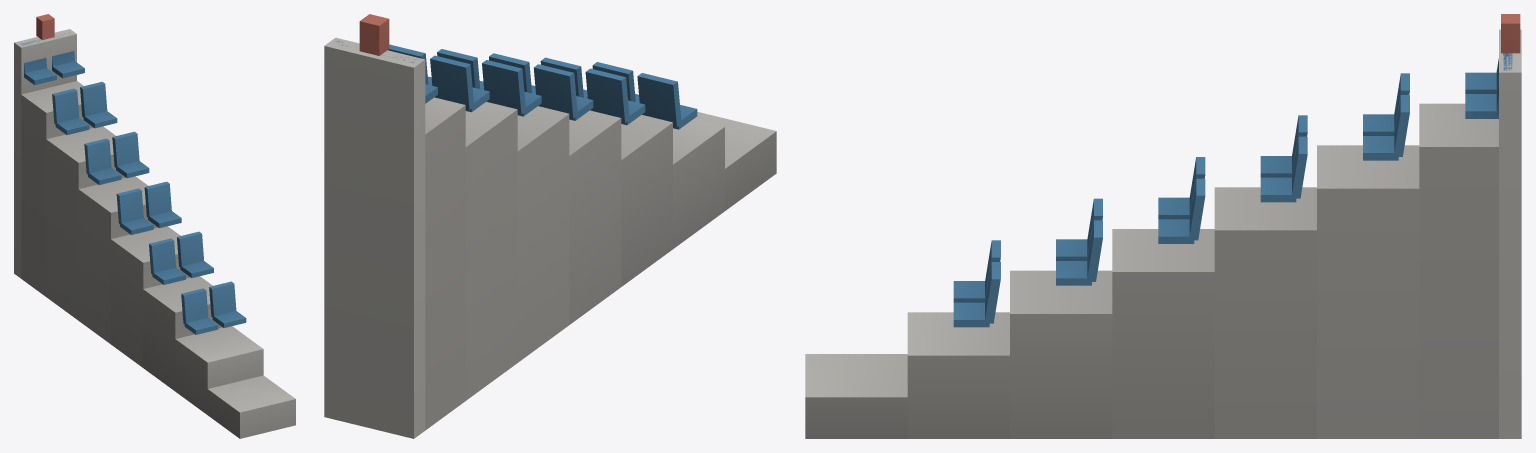
The model's file is stand.lod1.glb.
The picture shows the model from 3 angles, left to right: view 1: azimuth 30°, elevation 25°; view 2: azimuth 150°, elevation 25°; view 3: azimuth 270°, elevation 25°; orthographic projection. The views are drawn at different scales.
Bounding box in the file's own units: 1 × 4.3 × 7.
